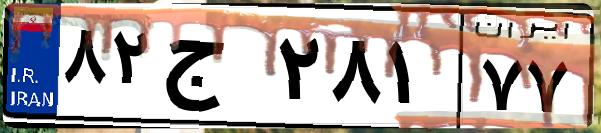1: (385, 28, 445, 110)
2: (270, 28, 330, 110), (110, 28, 158, 98)
7: (475, 38, 525, 113), (525, 38, 570, 115)
8: (330, 28, 385, 110), (57, 26, 110, 100)
ج: (158, 20, 270, 120)
